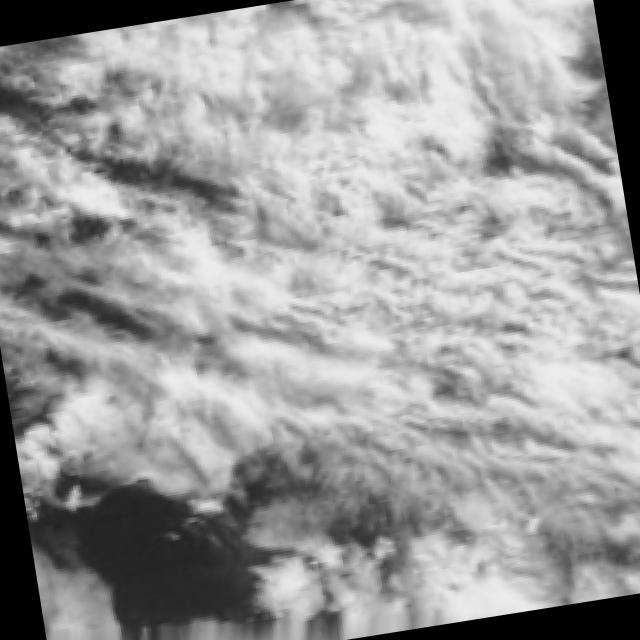CB: (257, 0, 604, 303)
